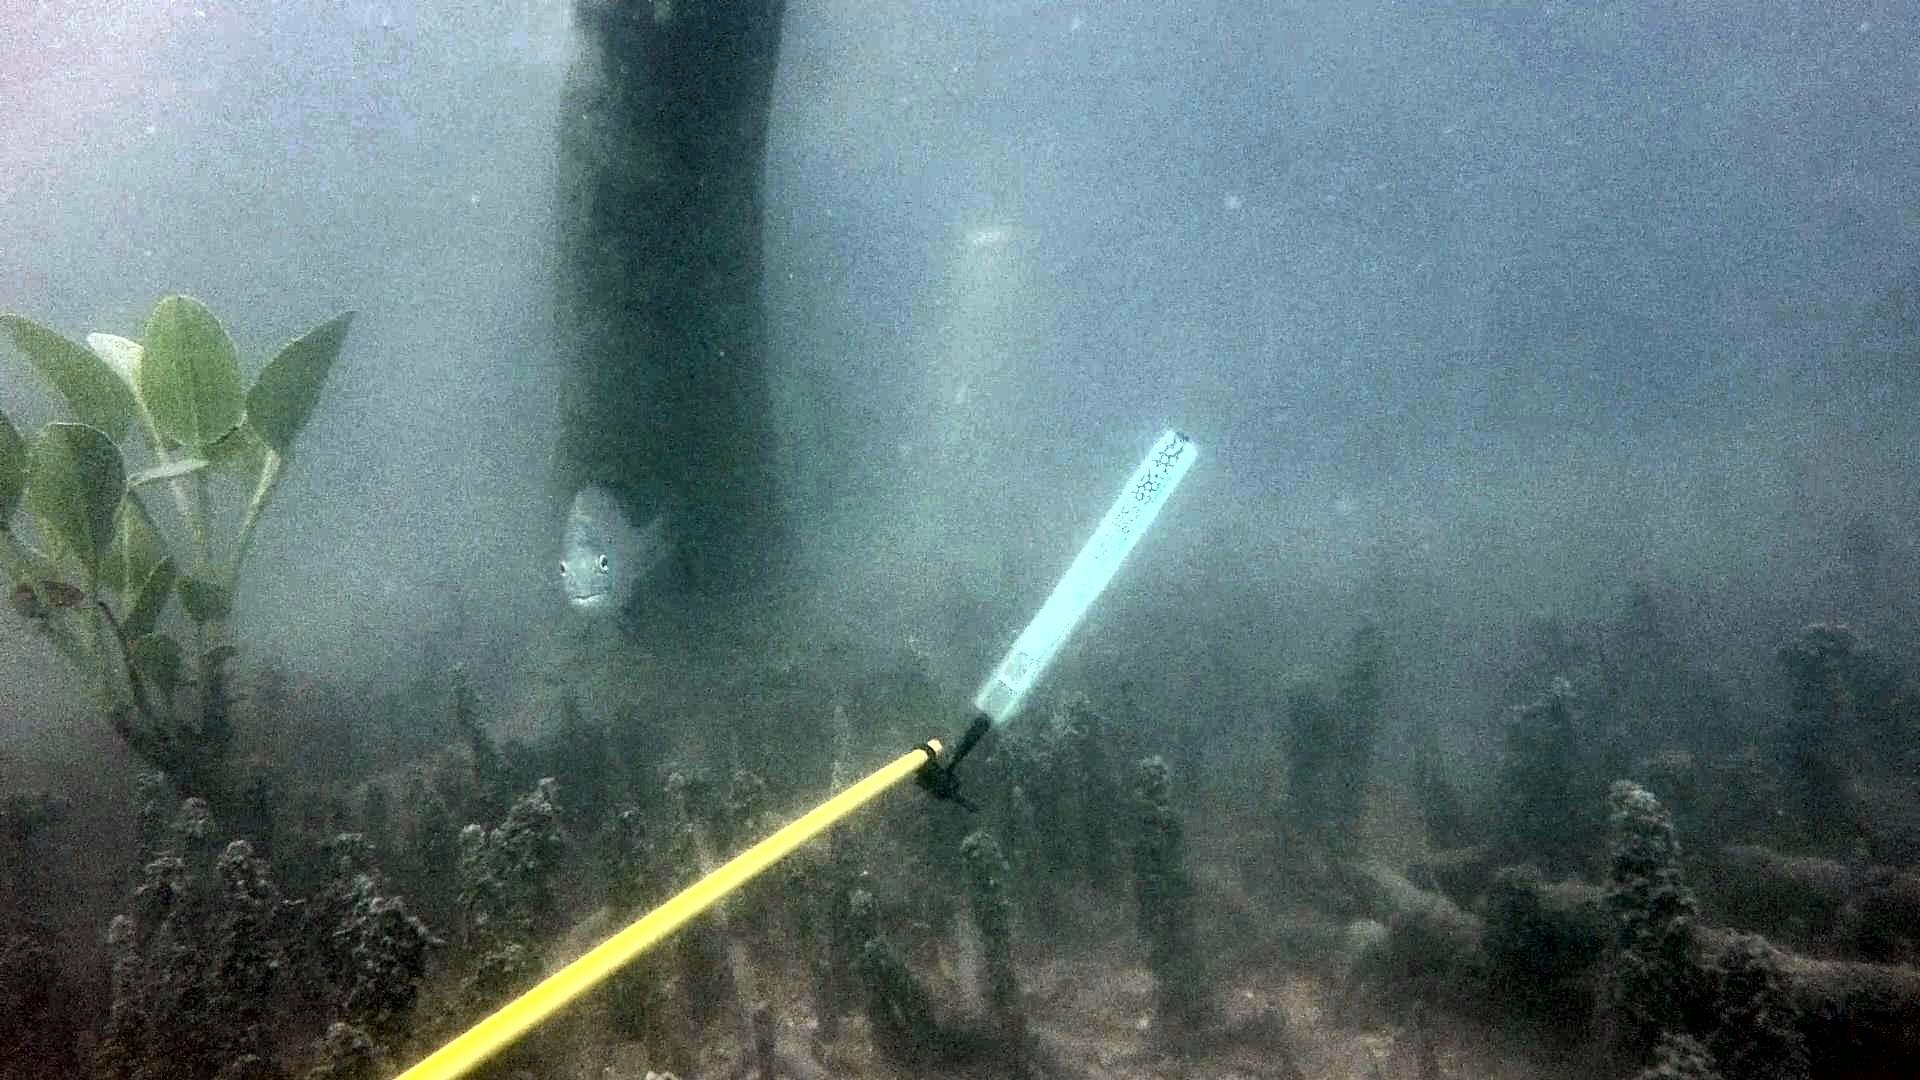acanthopagrus palmaris: (546, 466, 712, 642)
